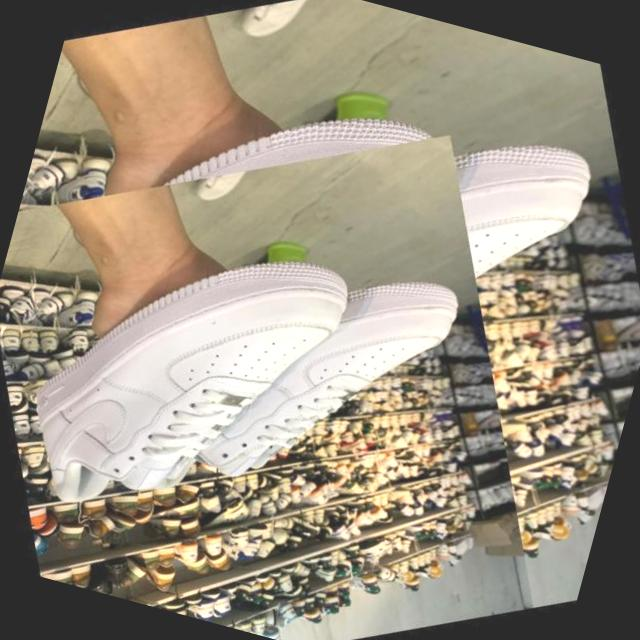nike_fake_airforce: (0, 170, 427, 594), (71, 185, 524, 578)
